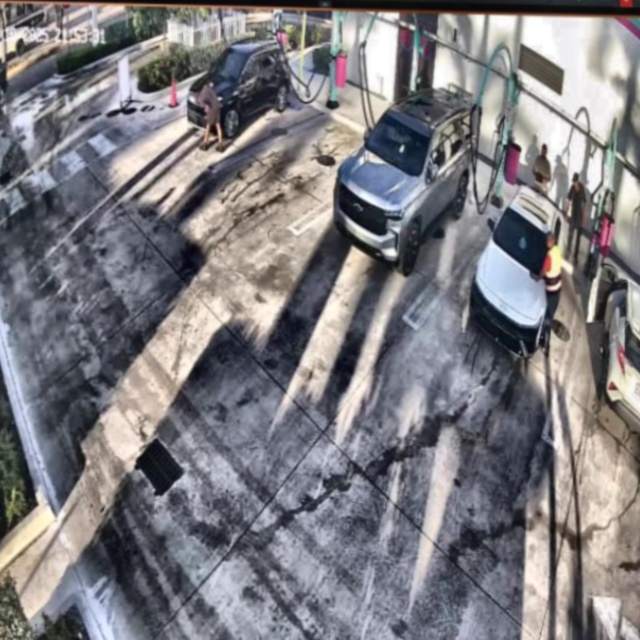Car: (332, 92, 477, 276), (468, 183, 564, 353)
